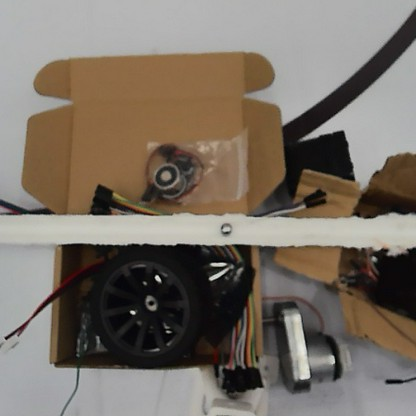ironball: (216, 219, 231, 237)
